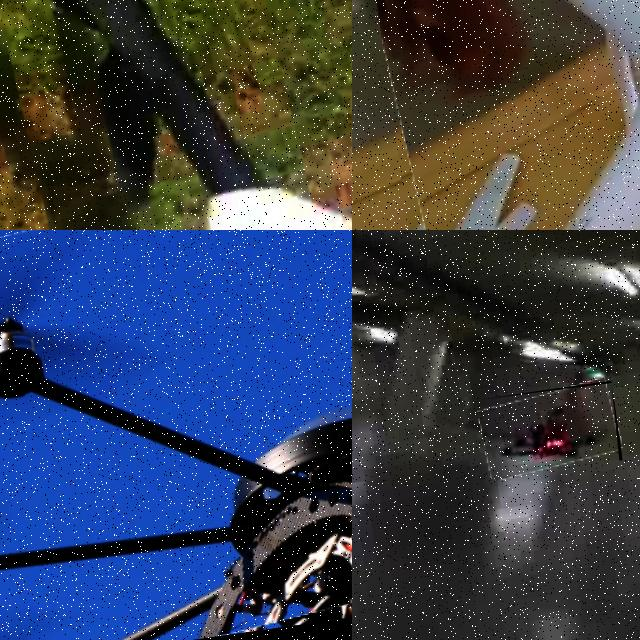drone: (0, 230, 352, 640), (0, 0, 352, 230), (354, 0, 640, 230), (478, 381, 622, 479)
